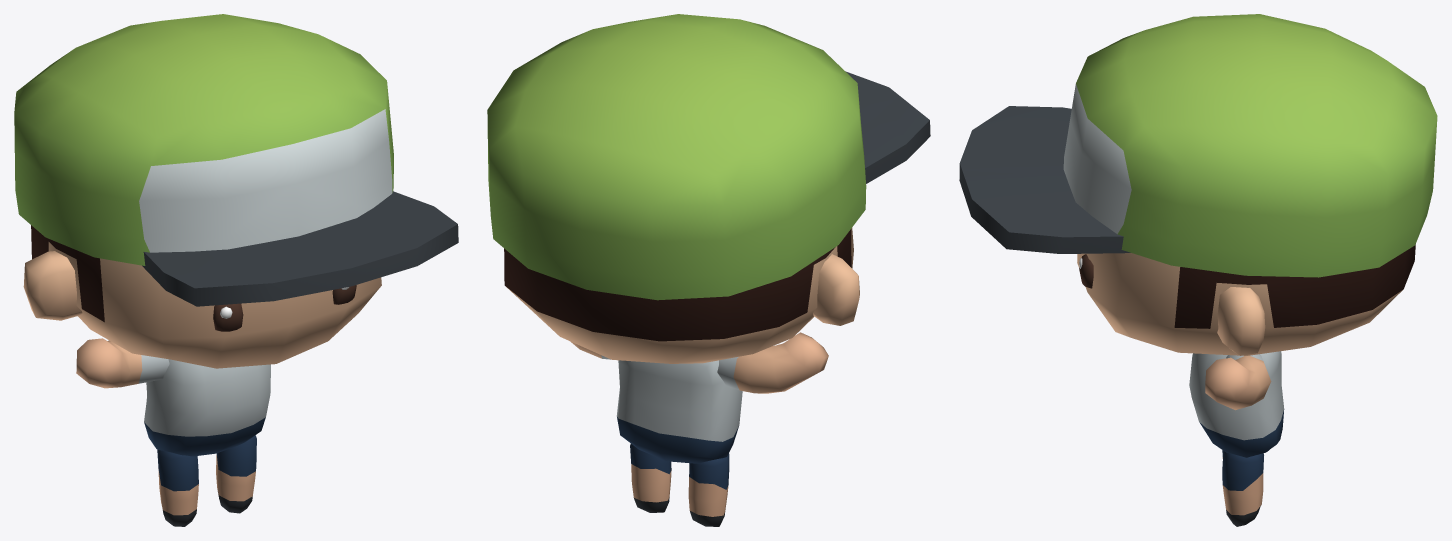
The model's file is jump_0019.obj.
3 views of the same model, side by side, from view 1: azimuth 30°, elevation 25°; view 2: azimuth 150°, elevation 25°; view 3: azimuth 270°, elevation 25° (orthographic).
Parts seen in each view (by area): view 1: Object_41, Object_42, Object_36, Object_44, Object_38; view 2: Object_41, Object_36, Object_44, Object_42; view 3: Object_41, Object_36, Object_42, Object_44.
Boxes of the visible parts, x1,y1,x2,y2 form: Object_41: (14, 14, 393, 265); Object_42: (139, 109, 458, 306); Object_36: (23, 225, 381, 368); Object_44: (76, 338, 270, 526); Object_38: (213, 285, 356, 331); Object_41: (487, 14, 866, 300); Object_36: (504, 227, 859, 363); Object_44: (570, 332, 828, 526); Object_42: (845, 71, 930, 183); Object_41: (1076, 14, 1437, 277); Object_36: (1077, 244, 1415, 355); Object_42: (959, 84, 1131, 253); Object_44: (1189, 351, 1284, 526).
Size of the model in its own units: 0.9691 by 1.23 by 1.14.
